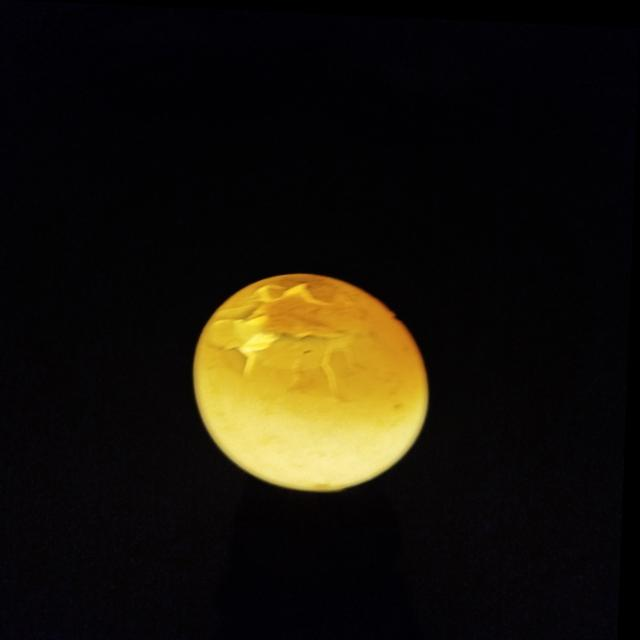Rachadura: (215, 278, 366, 372)
